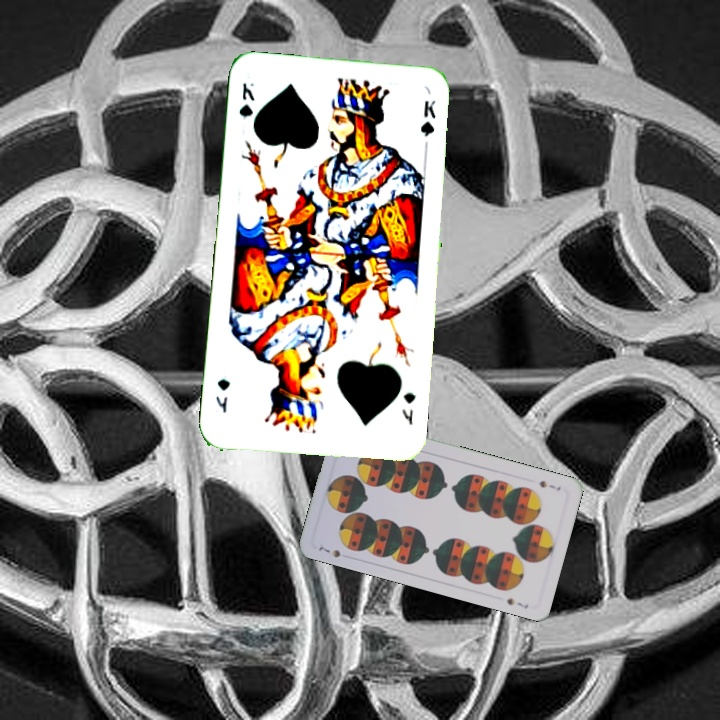GK: (235, 78, 258, 120), (398, 388, 418, 428)
S7: (314, 540, 343, 560), (535, 476, 563, 493)
